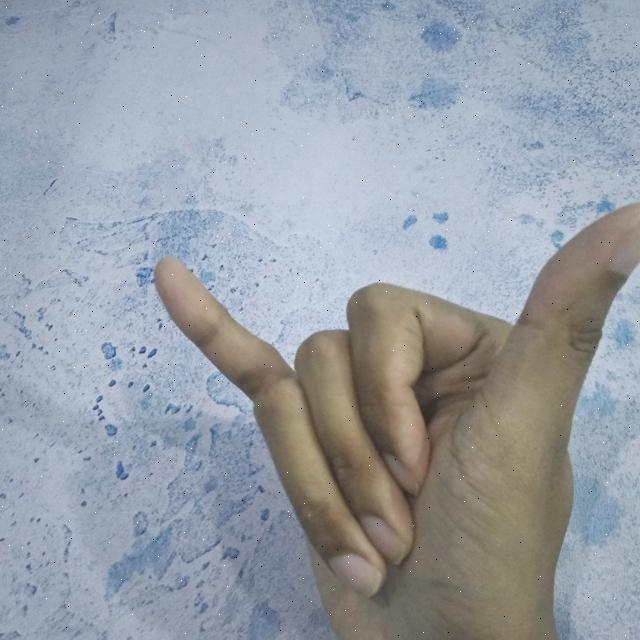Y: (147, 189, 640, 640)
